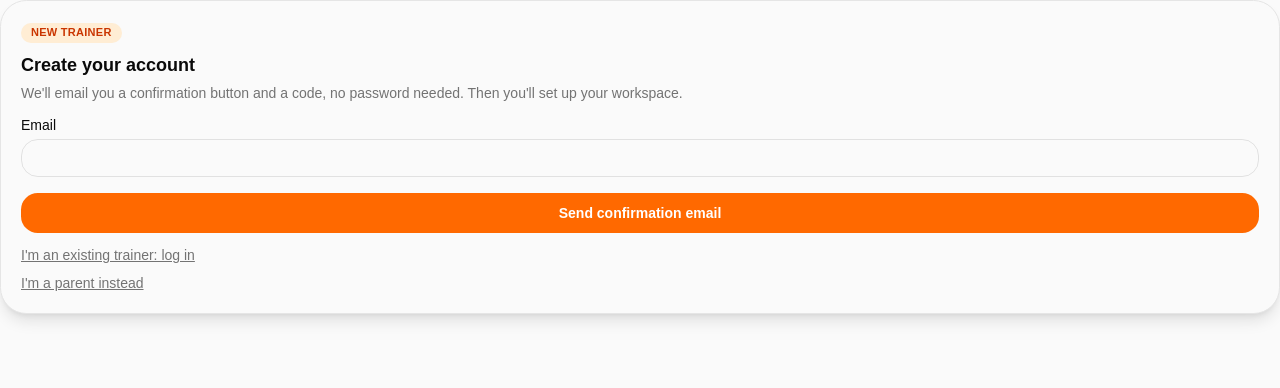
Test case: SignInCard › signs a new trainer up with a confirm-by-link email, no code to type
In the field labelled "Email": (640, 158) x1=21 y1=139 x2=1259 y2=177, type "new@example.com"
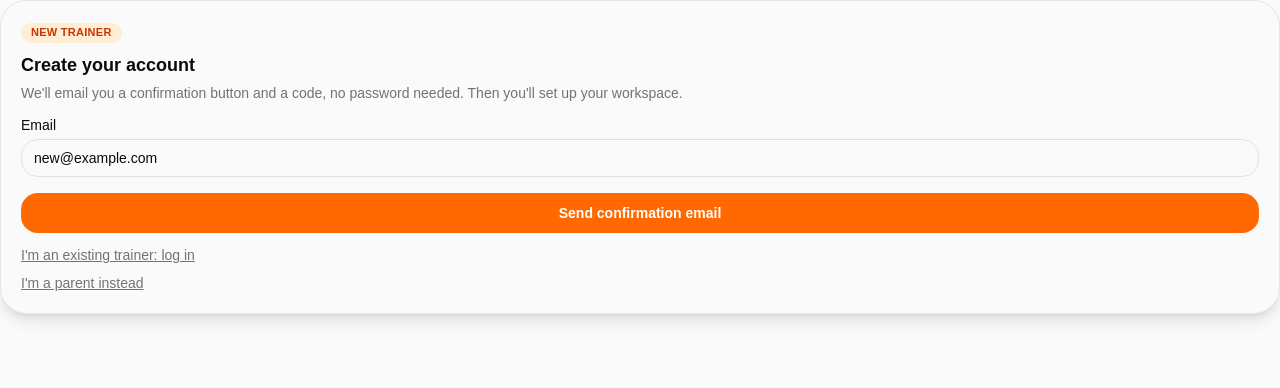
Click the button "Send confirmation email": (640, 213) x1=21 y1=193 x2=1259 y2=233
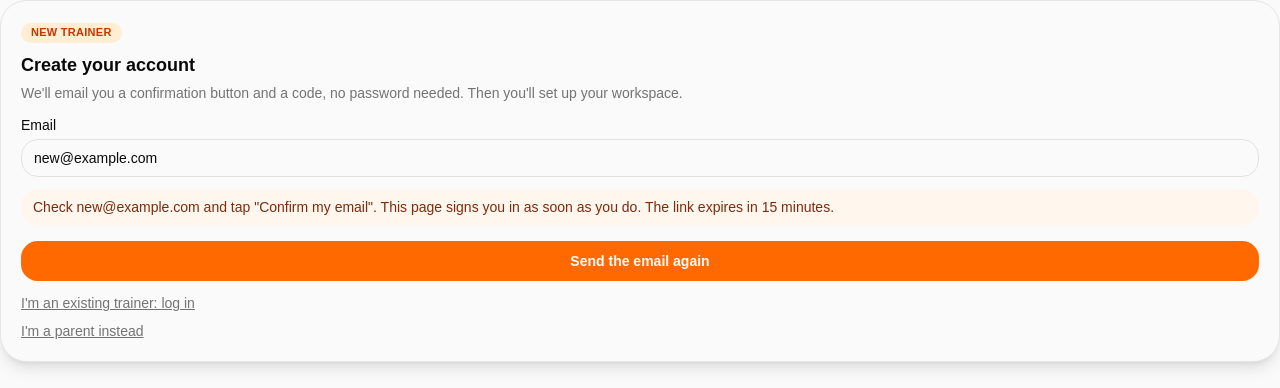
Expected: the text "link expires in 15 minutes" is shown, x1=33 y1=199 x2=834 y2=215
